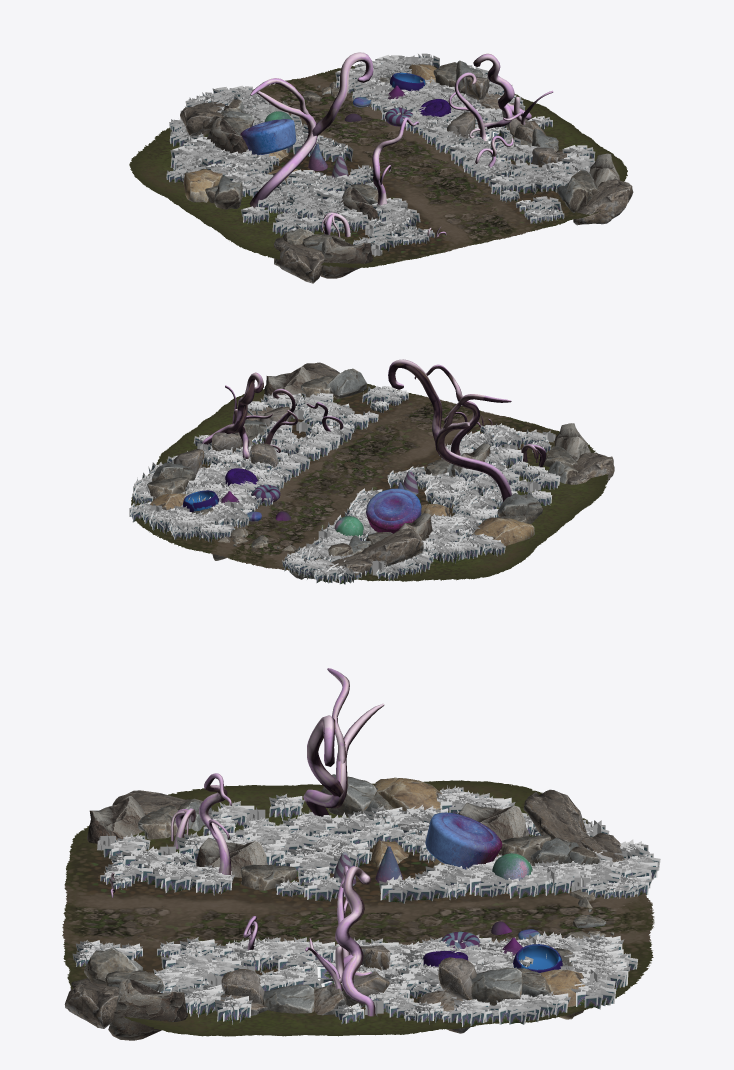
The model's file is Sc03_Groud.fbx.
The picture shows the model from 3 angles, top to bottom: view 1: azimuth 30°, elevation 25°; view 2: azimuth 150°, elevation 25°; view 3: azimuth 270°, elevation 25°; orthographic projection. The views are drawn at different scales.
Parts seen in each view (by area): view 1: bushe, Groud, Tree, Rock_02, Rock_05, prop, Rock_06, Rock_04, Rock_01, h04, Rock_03; view 2: bushe, Groud, Rock_02, Tree, prop, Rock_05, Rock_06, Rock_01, Rock_04, h04; view 3: bushe, Groud, Rock_02, Tree, Rock_06, prop, Rock_05, Rock_04, Rock_01, h04, Rock_03.
Part boxes in pixels (left/top/right/bottom): bushe: left=166, top=53, right=595, bottom=251; Groud: left=129, top=65, right=627, bottom=267; Tree: left=249, top=52, right=553, bottom=237; Rock_02: left=205, top=60, right=598, bottom=250; Rock_05: left=180, top=101, right=633, bottom=283; prop: left=240, top=72, right=450, bottom=178; Rock_06: left=207, top=118, right=620, bottom=278; Rock_04: left=447, top=76, right=558, bottom=167; Rock_01: left=183, top=64, right=436, bottom=202; h04: left=173, top=55, right=579, bottom=256; Rock_03: left=479, top=92, right=578, bottom=161; bushe: left=129, top=386, right=560, bottom=584; Groud: left=131, top=384, right=608, bottom=581; Rock_02: left=147, top=368, right=578, bottom=579; Tree: left=202, top=359, right=546, bottom=501; prop: left=183, top=468, right=421, bottom=536; Rock_05: left=302, top=362, right=614, bottom=582; Rock_06: left=264, top=366, right=590, bottom=540; Rock_01: left=150, top=493, right=534, bottom=545; Rock_04: left=173, top=406, right=291, bottom=474; h04: left=150, top=397, right=555, bottom=575; bushe: left=72, top=785, right=660, bottom=1026; Groud: left=62, top=780, right=654, bottom=1036; Rock_02: left=84, top=774, right=614, bottom=1013; Tree: left=109, top=668, right=384, bottom=1016; Rock_06: left=87, top=796, right=529, bottom=1040; prop: left=333, top=812, right=562, bottom=972; Rock_05: left=64, top=789, right=625, bottom=1028; Rock_04: left=221, top=945, right=476, bottom=1007; Rock_01: left=372, top=777, right=585, bottom=1019; h04: left=97, top=807, right=601, bottom=1016; Rock_03: left=220, top=984, right=470, bottom=1033.
Bounding box in the file's own units: 496 × 164 × 496.
